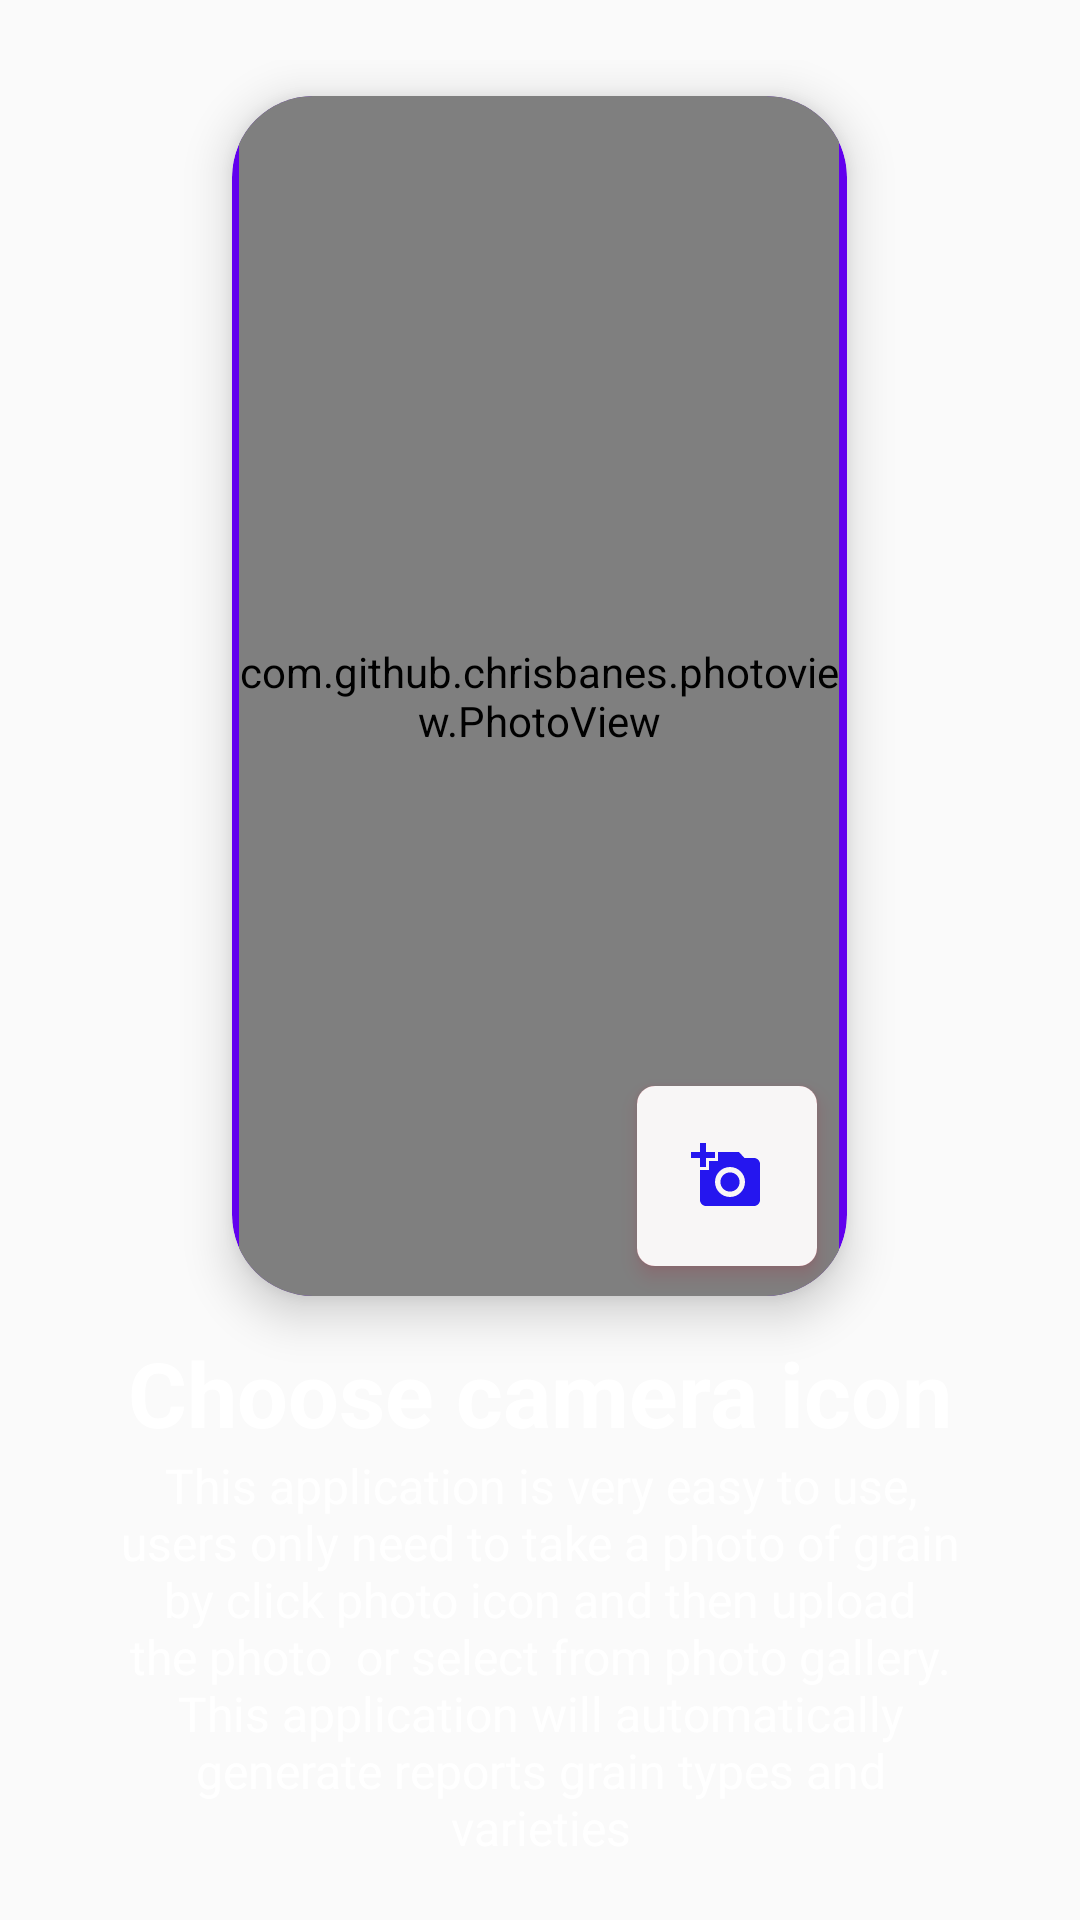

Point at icon controls on the screen. Image size 1080px×1920px, points as point (x, y).
add photo: point (727, 1176)
